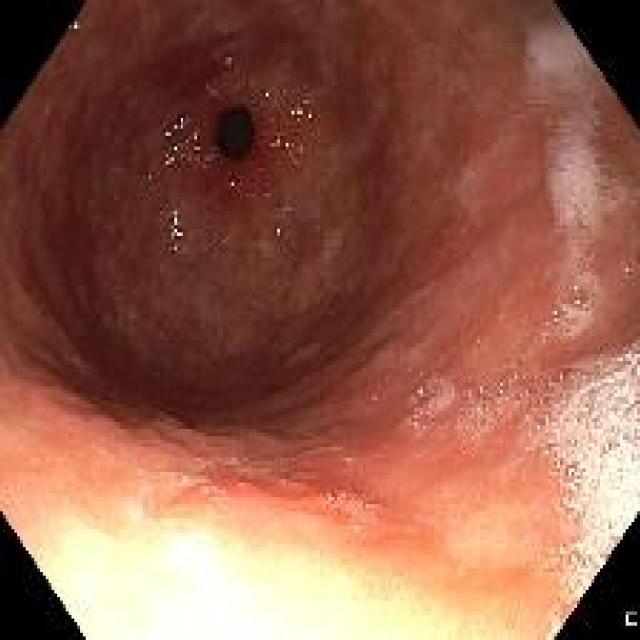bubbles: (586, 337, 639, 565), (532, 362, 588, 526), (543, 129, 620, 231), (458, 369, 529, 438), (544, 275, 597, 337), (538, 530, 596, 579), (502, 93, 551, 150), (399, 375, 443, 438), (462, 157, 484, 191), (598, 432, 614, 459), (619, 256, 634, 278), (590, 94, 606, 113), (322, 490, 338, 506), (340, 490, 351, 506), (583, 248, 594, 263), (172, 473, 183, 487)
contrast: (2, 4, 410, 424)
saturation: (26, 499, 528, 638)
specularity: (161, 131, 206, 170), (163, 205, 189, 252), (286, 98, 315, 123), (157, 116, 189, 135), (268, 129, 292, 151), (270, 217, 289, 244), (219, 53, 239, 70), (259, 81, 274, 103), (67, 20, 84, 38), (228, 177, 242, 194), (601, 439, 610, 456), (568, 465, 575, 476), (583, 558, 590, 568), (554, 460, 559, 471), (571, 554, 576, 564), (624, 264, 629, 274), (566, 511, 572, 519), (575, 297, 581, 305), (563, 496, 568, 503)
